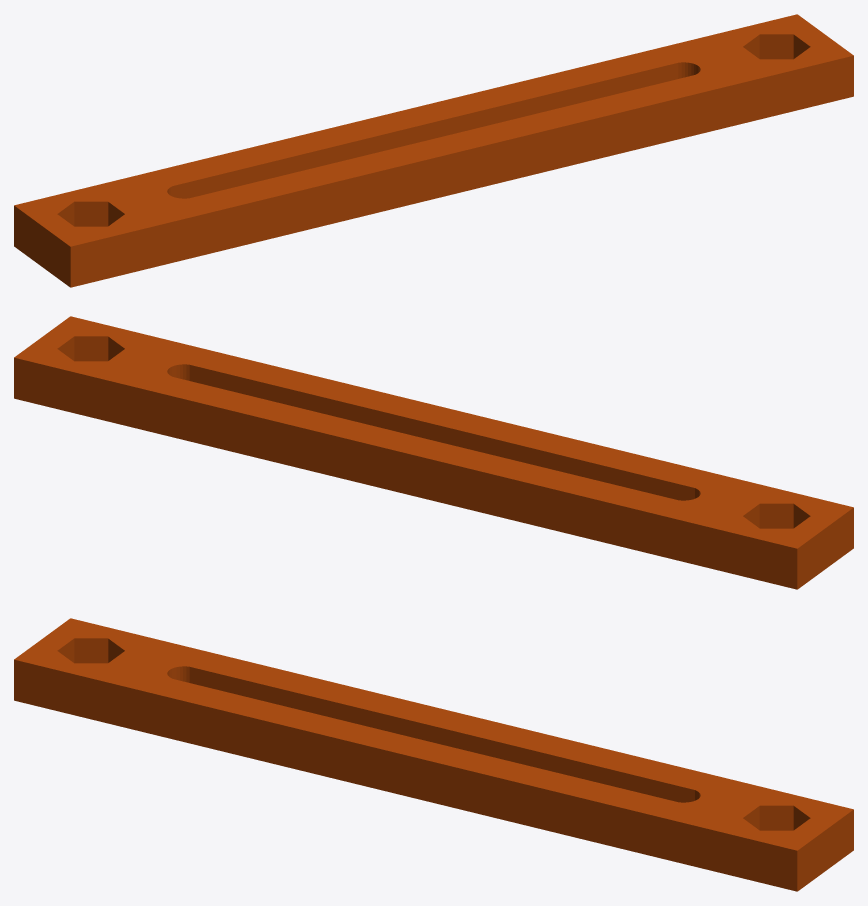
The model's file is I_Piece_2_hole_1_track_hole_One_Sided_Plate_8cm.glb.
3 renders of one model, top to bottom at view 1: azimuth 30°, elevation 25°; view 2: azimuth 150°, elevation 25°; view 3: azimuth 330°, elevation 25°, orthographic.
Visible parts, largest first — view 1: Cube; view 2: Cube; view 3: Cube.
Part boxes in pixels (x1,y1,x2,y2): Cube: (14, 14, 853, 287); Cube: (14, 316, 853, 589); Cube: (14, 618, 853, 891).
Size of the model in its own units: 0.08 by 0.004 by 0.01.
